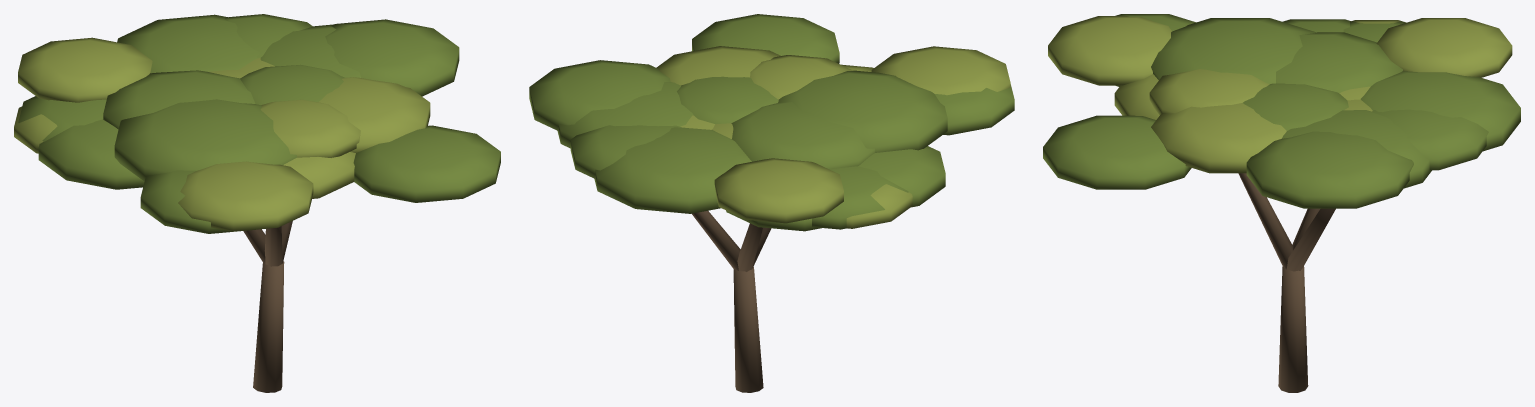
Rendered from akazie.glb.
3 views of the same model, side by side, from view 1: azimuth 30°, elevation 25°; view 2: azimuth 150°, elevation 25°; view 3: azimuth 270°, elevation 25° (orthographic). The views are drawn at different scales.
Visible parts, largest first — view 1: Cone; view 2: Cone; view 3: Cone.
Boxes of the visible parts, <box> form: Cone: <box>14,14,500,392</box>; Cone: <box>529,14,1014,392</box>; Cone: <box>1043,14,1520,392</box>.
Bounding box in the file's own units: 6.79 × 4.97 × 7.06.
